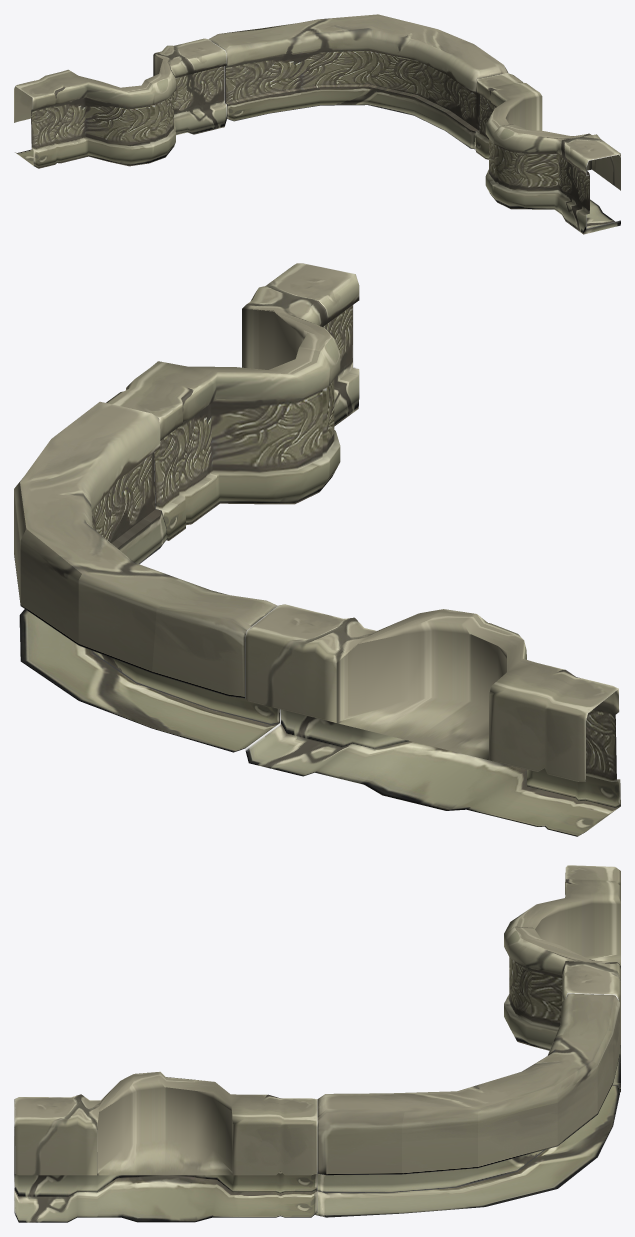
The model's file is concave_connected_1.fbx.
3 views of the same model, one above another, from view 1: azimuth 30°, elevation 25°; view 2: azimuth 150°, elevation 25°; view 3: azimuth 270°, elevation 25° (orthographic). The views are drawn at different scales.
Visible parts, largest first — view 1: polySurface109; view 2: polySurface109; view 3: polySurface109.
Boxes of the visible parts, bbox=[...] form: polySurface109: bbox=[14, 14, 620, 234]; polySurface109: bbox=[14, 263, 620, 836]; polySurface109: bbox=[14, 865, 620, 1222].
Size of the model in its own units: 4 by 0.779 by 4.
